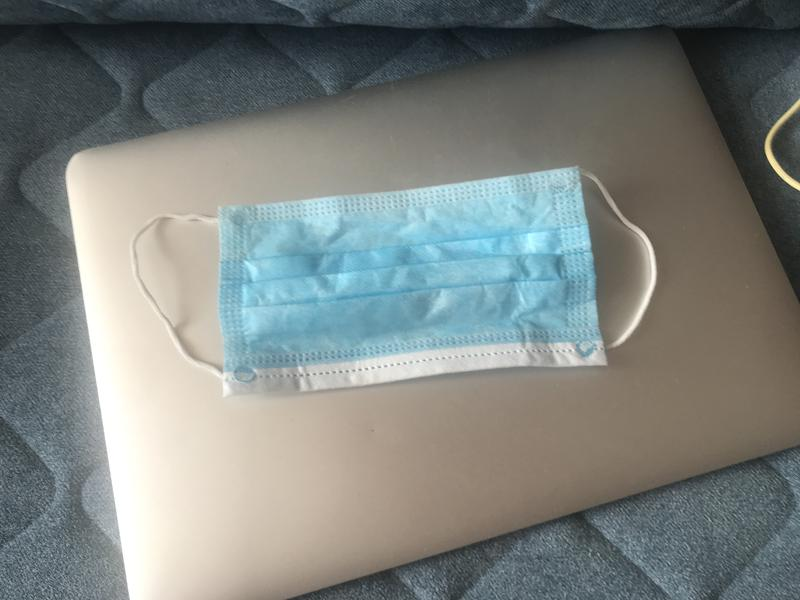medical_mask: (130, 165, 659, 394)
